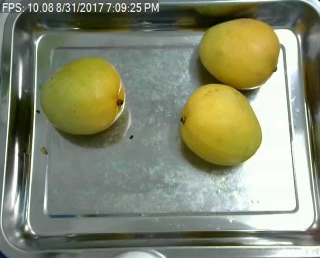Mango: (177, 82, 261, 163), (41, 59, 125, 135), (199, 17, 278, 90)
